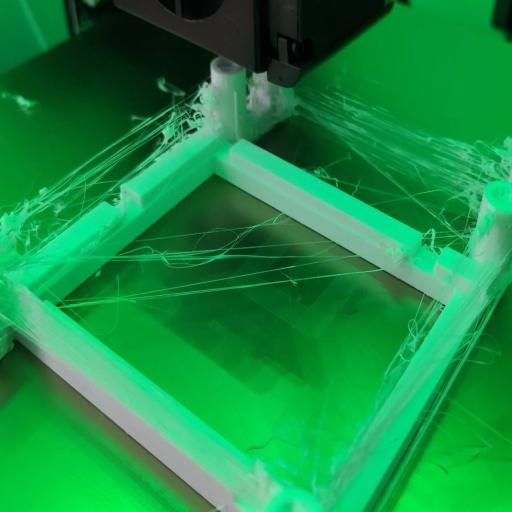stringing: (74, 224, 336, 302), (380, 130, 498, 212), (22, 164, 96, 230), (310, 87, 386, 150), (95, 113, 165, 170), (391, 315, 433, 386)
